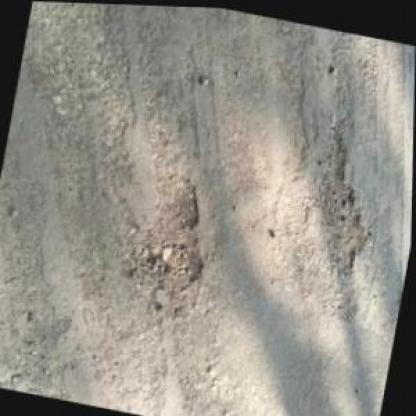pothole: (297, 122, 388, 280), (118, 168, 220, 299)
